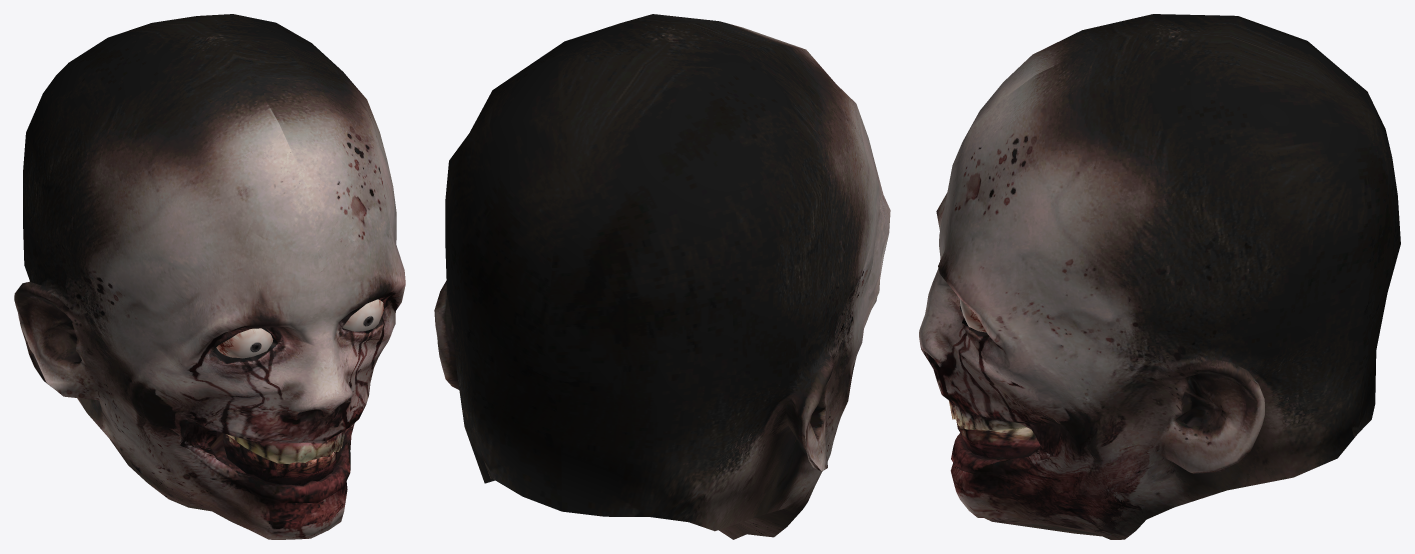
Rendered from head.fbx.
The picture shows the model from 3 angles, left to right: view 1: azimuth 30°, elevation 25°; view 2: azimuth 150°, elevation 25°; view 3: azimuth 270°, elevation 25°; orthographic projection. The views are drawn at different scales.
Visible parts, largest first — view 1: Jeff the killer.009; view 2: Jeff the killer.009; view 3: Jeff the killer.009.
Part boxes in pixels (x1,y1,x2,y2): Jeff the killer.009: (14,14,405,539); Jeff the killer.009: (434,14,890,539); Jeff the killer.009: (919,14,1400,539).
Bounding box in the file's own units: 726 × 958 × 841.
